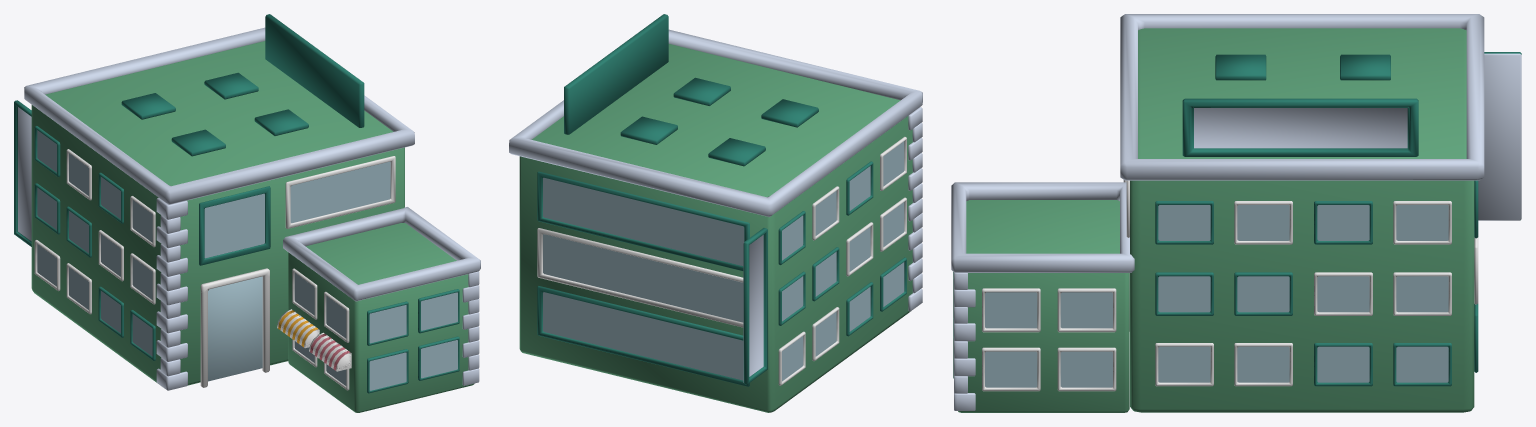
The model's file is Restaurant.fbx.
The picture shows the model from 3 angles, left to right: view 1: azimuth 30°, elevation 25°; view 2: azimuth 150°, elevation 25°; view 3: azimuth 270°, elevation 25°; orthographic projection. The views are drawn at different scales.
Visible parts, largest first — view 1: Plane.391, Plane.811, Plane.392, Plane.812, Plane.632, Plane.636, Cube.239, Cube.270, Plane.794, Plane.633, Plane.1118, Plane.634 (+38 smaller); view 2: Plane.391, Plane.392, Cube.151, Cube.149, Cube.150, Plane.636, Plane.794, Plane.175, Plane.173, Plane.174, Plane.637, Plane.1134 (+26 smaller); view 3: Plane.391, Plane.811, Plane.392, Plane.636, Plane.812, Plane.794, Cube.077, Cube.092, Cube.093, Cube.094, Cube.095, Cube.096 (+28 smaller).
Boxes of the visible parts, x1,y1,x2,y2 form: Plane.391: (31, 41, 404, 385); Plane.811: (288, 223, 474, 412); Plane.392: (24, 27, 414, 204); Plane.812: (283, 207, 480, 301); Plane.632: (208, 276, 262, 381); Plane.636: (265, 14, 364, 127); Cube.239: (290, 161, 390, 223); Cube.270: (204, 193, 264, 258); Plane.794: (14, 100, 31, 246); Plane.633: (200, 268, 269, 387); Plane.1118: (285, 156, 395, 228); Plane.634: (199, 186, 270, 265); Plane.391: (519, 44, 912, 412); Plane.392: (509, 29, 922, 216); Cube.151: (543, 178, 744, 265); Cube.149: (543, 292, 743, 380); Cube.150: (543, 234, 743, 322); Plane.636: (564, 14, 668, 134); Plane.794: (743, 228, 767, 384); Plane.175: (537, 171, 749, 270); Plane.173: (537, 286, 749, 386); Plane.174: (537, 228, 743, 327); Plane.637: (620, 116, 677, 144); Plane.1134: (708, 138, 765, 166); Plane.391: (1130, 28, 1474, 412); Plane.811: (958, 200, 1129, 412); Plane.392: (1120, 14, 1484, 180); Plane.636: (1182, 98, 1418, 156); Plane.812: (951, 182, 1134, 272); Plane.794: (1478, 52, 1521, 220); Cube.077: (1237, 276, 1289, 312); Cube.092: (1158, 276, 1210, 312); Cube.093: (1237, 346, 1289, 382); Cube.094: (1158, 346, 1210, 382); Cube.095: (1396, 276, 1448, 312); Cube.096: (1317, 276, 1369, 312).
Size of the model in its own units: 1673 by 1564 by 2663.
